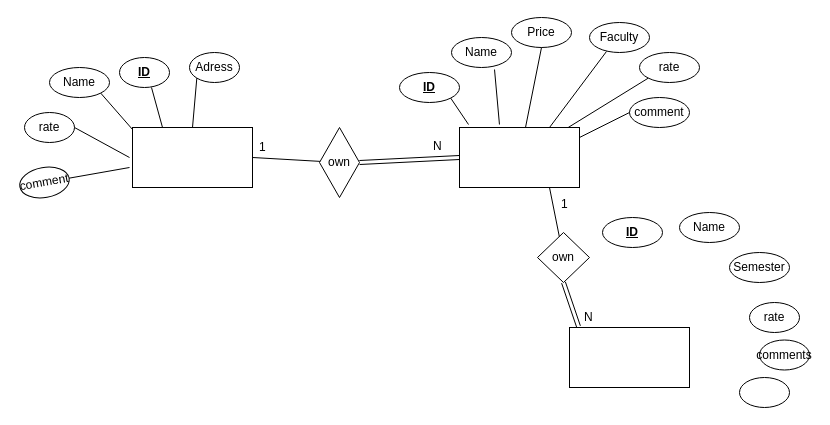
This 830x425 diagram has some shape labels left out. Each missing label, with the centre of its shape:
COURSES: (x=629, y=357)
MAJOR: (x=519, y=157)
UNIVERSITY: (x=192, y=157)
